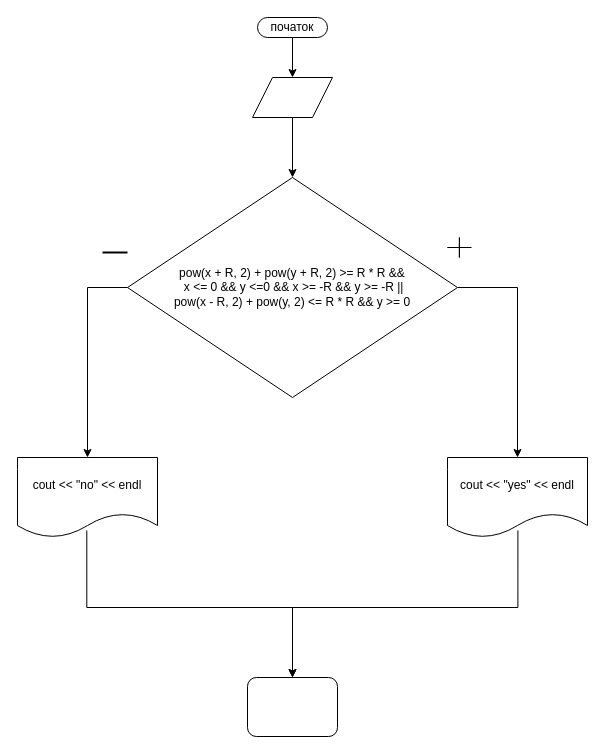
Some shapes in this 605 by 754 pixel diagram are drawn without their labels. The centre of each missing label's shape, as x and y in pixels:
R,x,y: the point at 292,97
кінець: the point at 292,706
